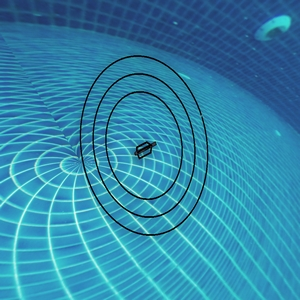circle: (75, 41, 215, 244)
submarine: (136, 141, 156, 161)
